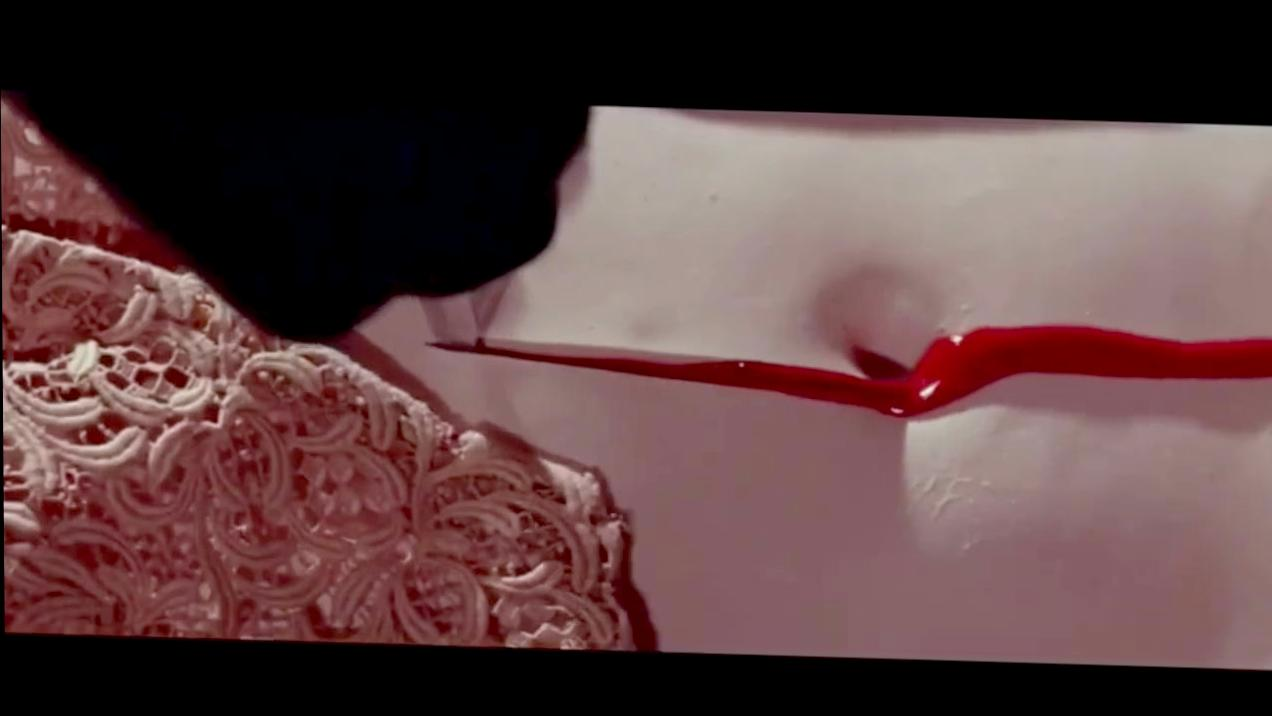Fire: (432, 318, 1272, 410)
